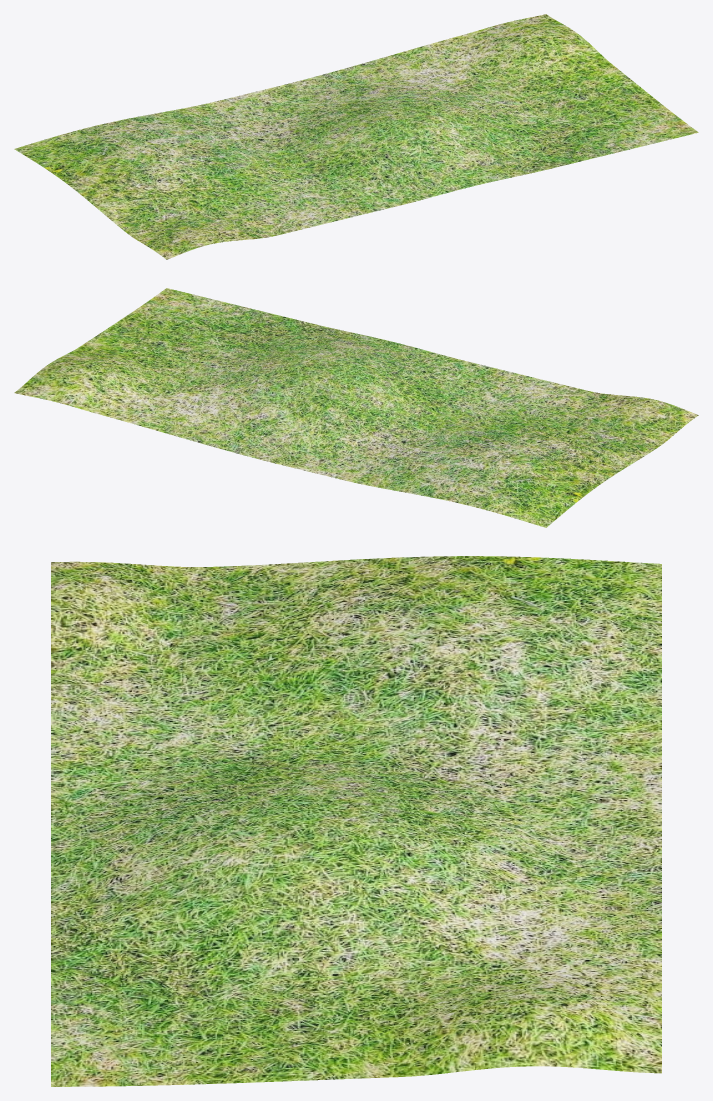
Rendered from grass.glb.
3 renders of one model, top to bottom at view 1: azimuth 30°, elevation 25°; view 2: azimuth 150°, elevation 25°; view 3: azimuth 270°, elevation 25°, orthographic. The views are drawn at different scales.
Parts seen in each view (by area): view 1: grass; view 2: grass; view 3: grass.
Boxes of the visible parts, bbox=[...] form: grass: bbox=[14, 14, 698, 259]; grass: bbox=[14, 288, 698, 527]; grass: bbox=[51, 556, 661, 1086].
Size of the model in its own units: 12.08 by 0.4458 by 6.
1 material, 1 textured.
